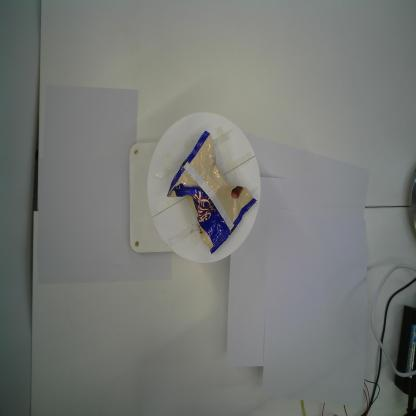Dessert: (166, 130, 259, 258)
